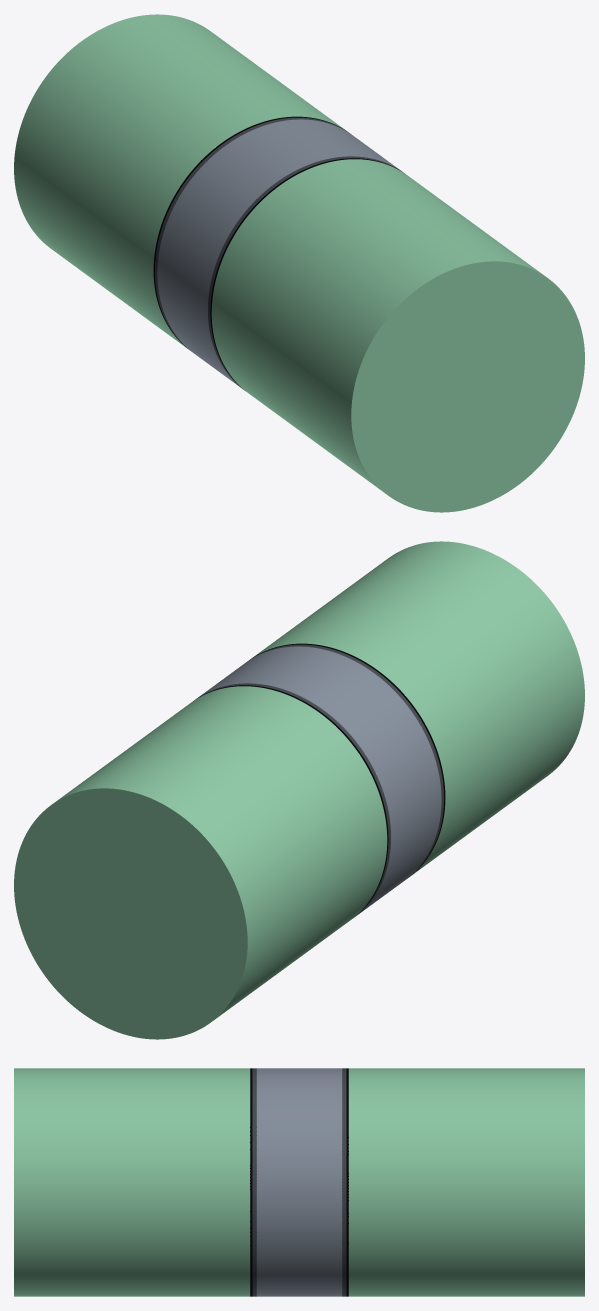
Rendered from ground-2.obj.
The picture shows the model from 3 angles, top to bottom: view 1: azimuth 30°, elevation 25°; view 2: azimuth 150°, elevation 25°; view 3: azimuth 270°, elevation 25°; orthographic projection. The views are drawn at different scales.
Visible parts, largest first — view 1: Cylinder.007_Cylinder.002; view 2: Cylinder.007_Cylinder.002; view 3: Cylinder.007_Cylinder.002.
Boxes of the visible parts, x1,y1,x2,y2 form: Cylinder.007_Cylinder.002: [14, 14, 584, 512]; Cylinder.007_Cylinder.002: [14, 541, 584, 1039]; Cylinder.007_Cylinder.002: [14, 1068, 584, 1296].
Bounding box in the file's own units: 2 × 2 × 5.
1 material, 1 textured.
